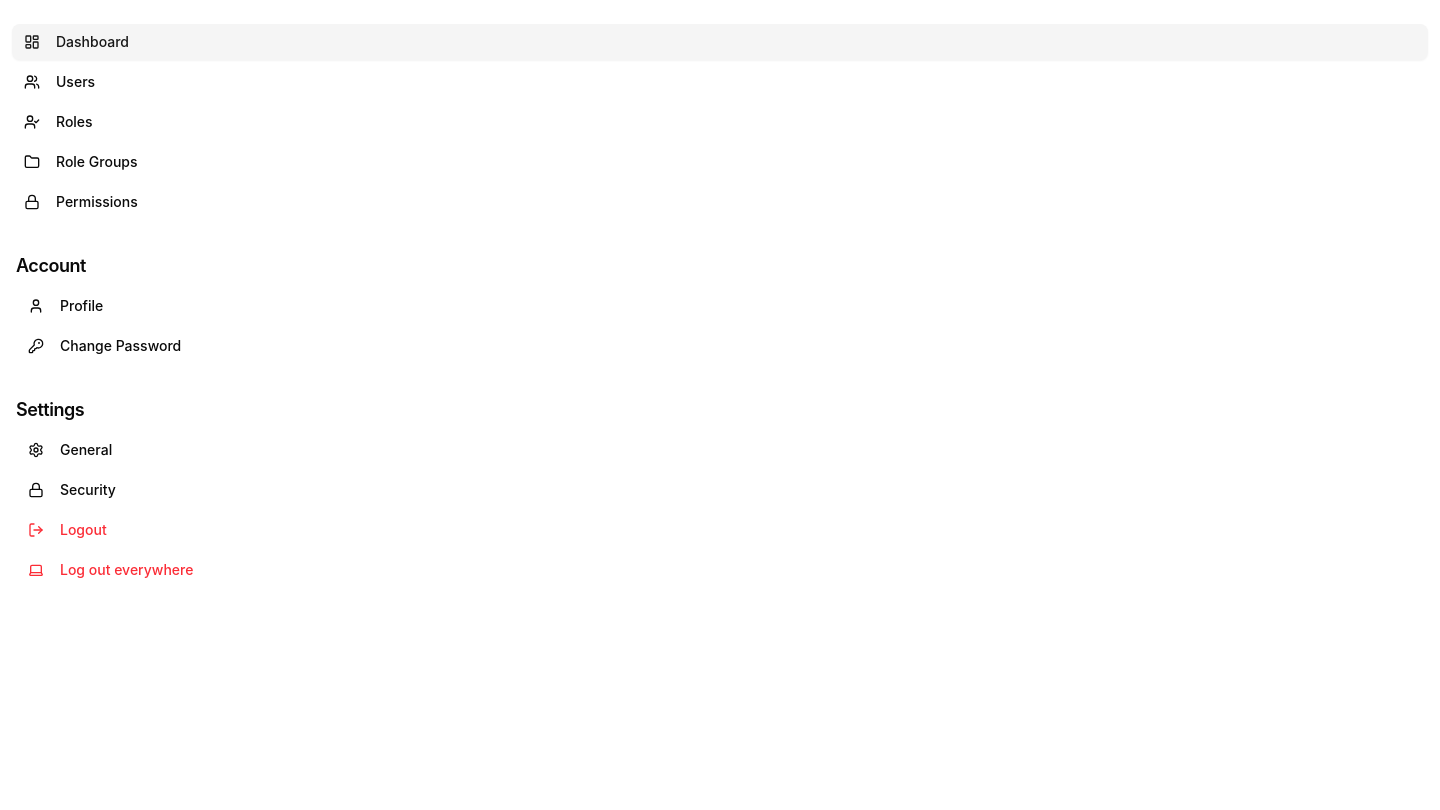
Test: Log out everywhere › sidebar › does not revoke sessions or clear auth when confirmation is cancelled
Click the button "Log out everywhere": (127,570) [16, 552, 1424, 588]
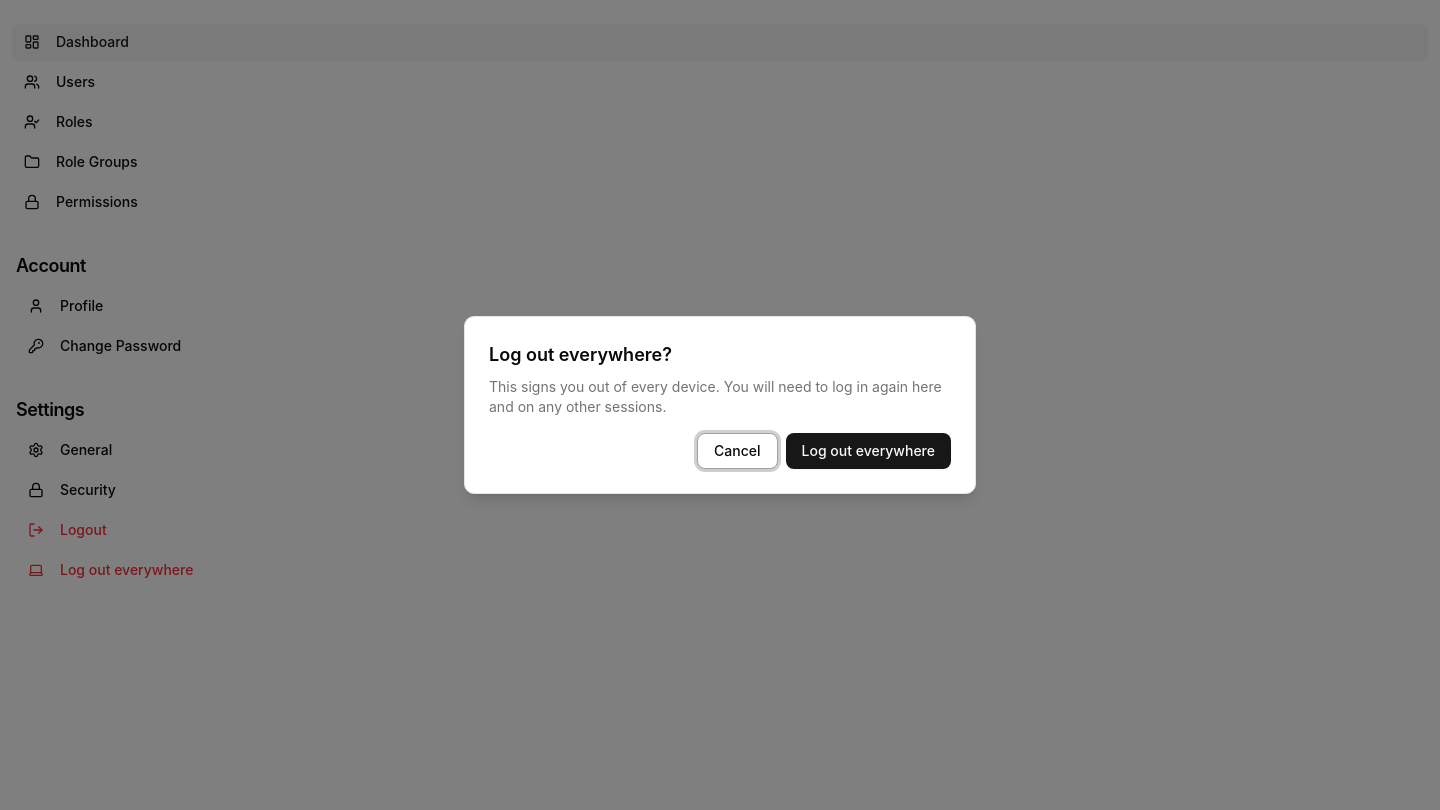
Now the dialog is shown, box [464, 316, 976, 494]
Click the button "Cancel": (737,451) [697, 433, 778, 469]
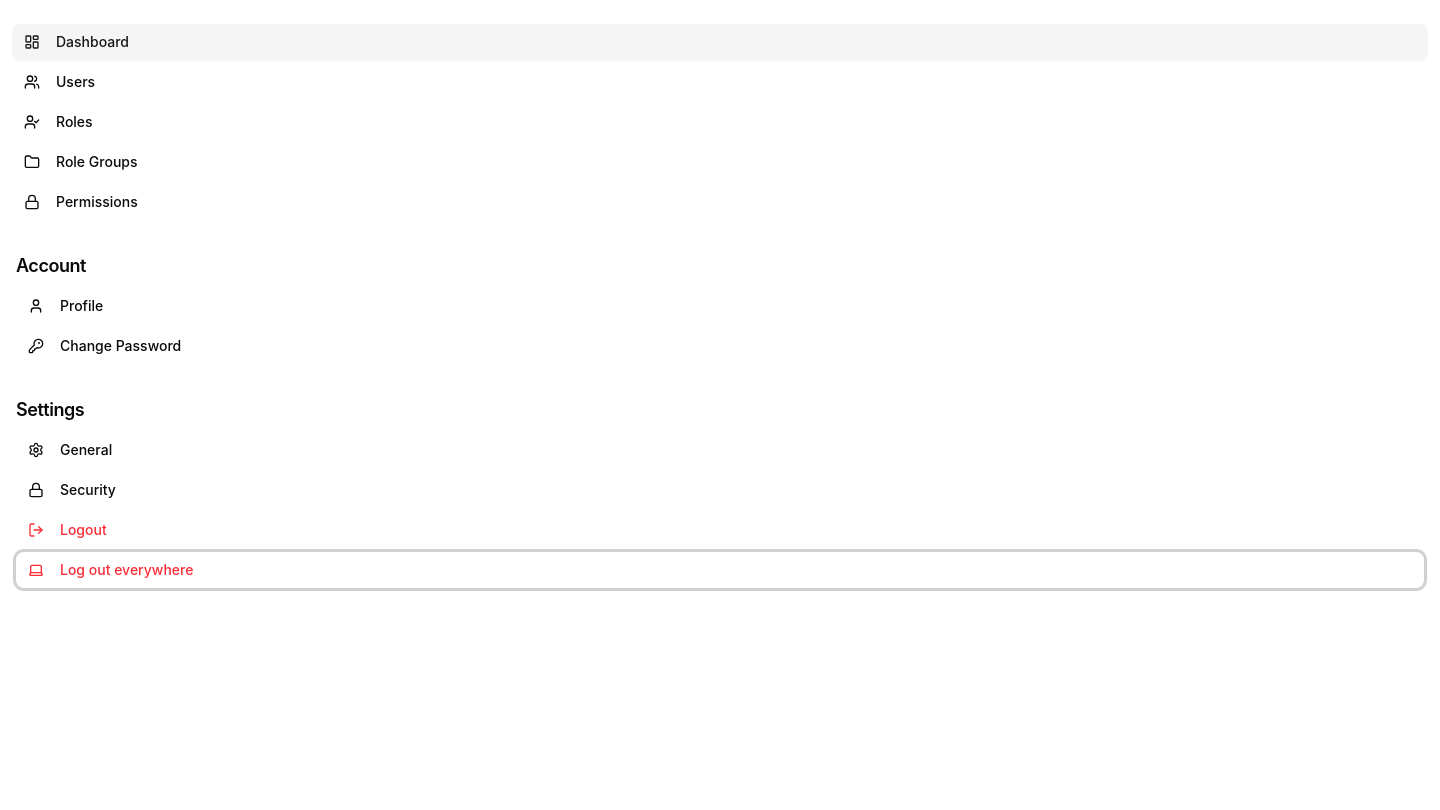
Now the dialog is gone
